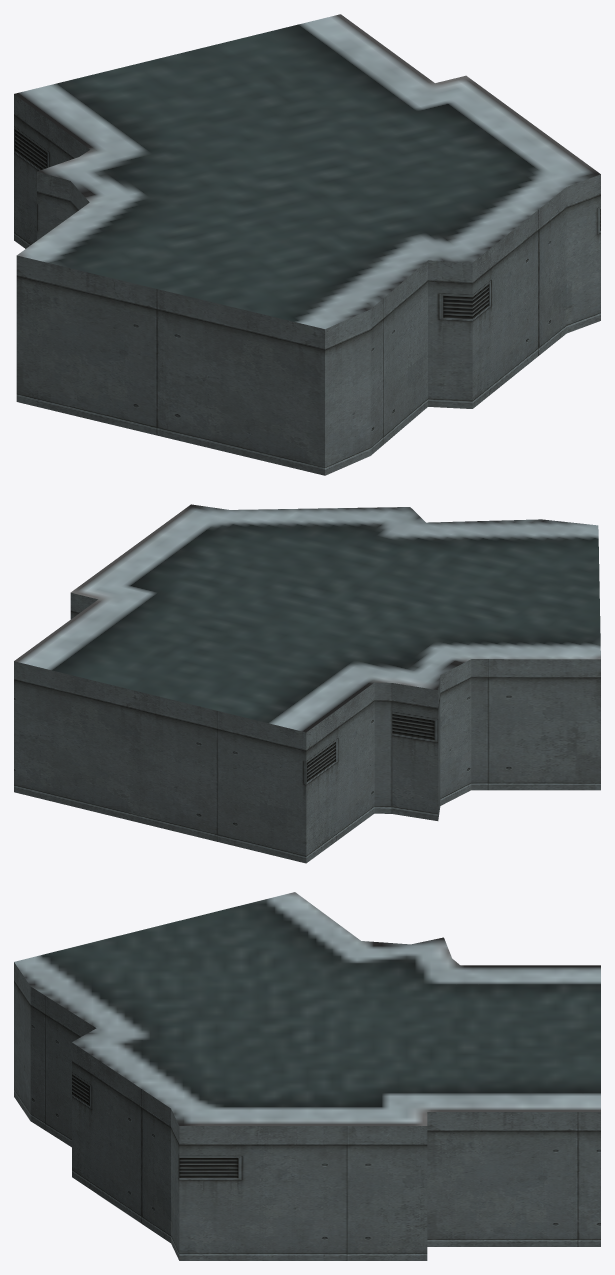
The model's file is medium_roof17.glb.
3 views of the same model, one above another, from view 1: azimuth 30°, elevation 25°; view 2: azimuth 150°, elevation 25°; view 3: azimuth 270°, elevation 25° (orthographic). The views are drawn at different scales.
Visible parts, largest first — view 1: buildings/saxarba/medium/medium_roof17; view 2: buildings/saxarba/medium/medium_roof17; view 3: buildings/saxarba/medium/medium_roof17.
Boxes of the visible parts, x1,y1,x2,y2 form: buildings/saxarba/medium/medium_roof17: [14, 14, 600, 475]; buildings/saxarba/medium/medium_roof17: [14, 504, 600, 863]; buildings/saxarba/medium/medium_roof17: [14, 892, 600, 1260].
Size of the model in its own units: 67 by 18 by 71.
